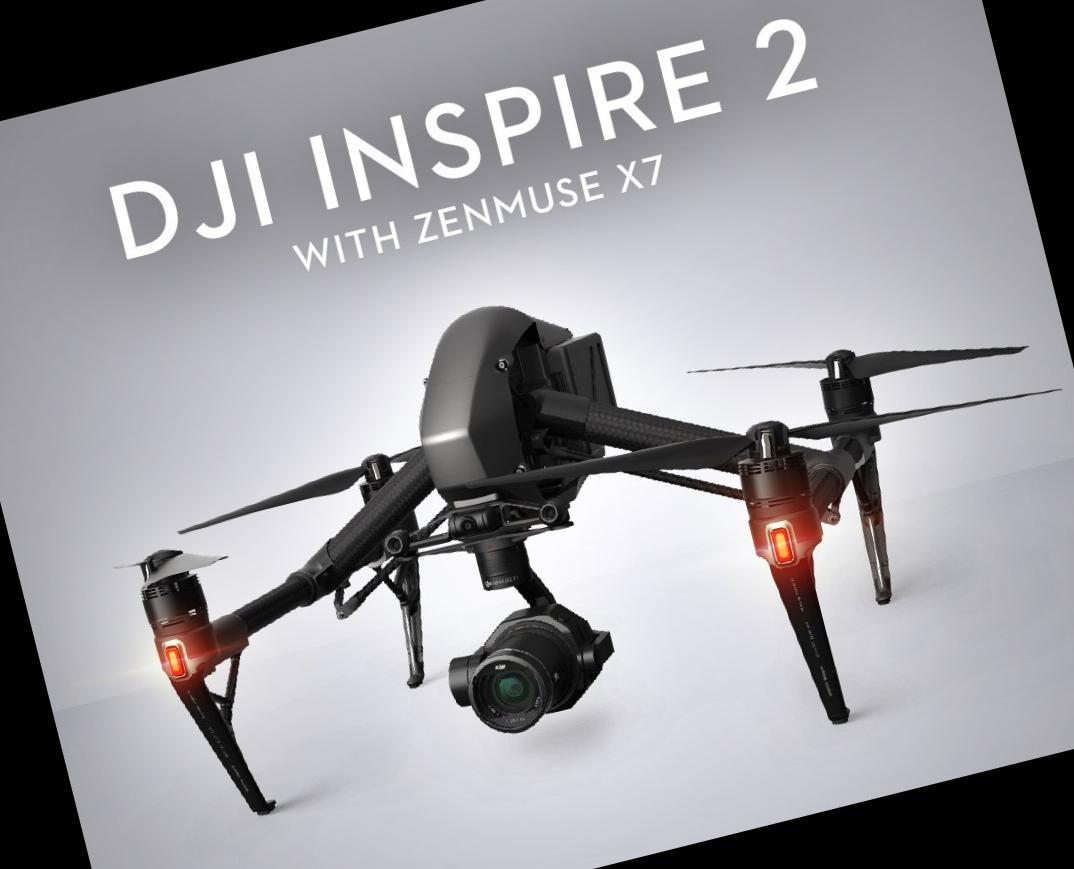drone: (48, 187, 1074, 869)
